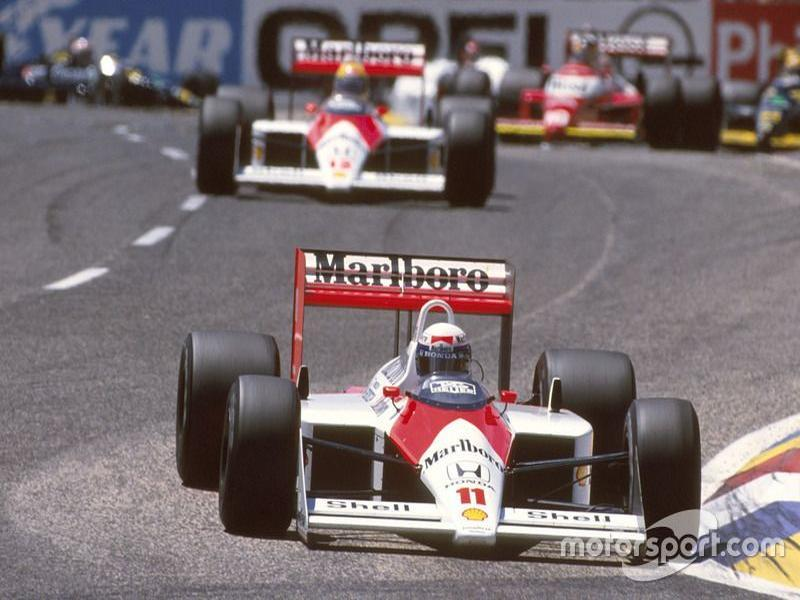f1: (188, 241, 710, 556), (199, 30, 506, 205)
